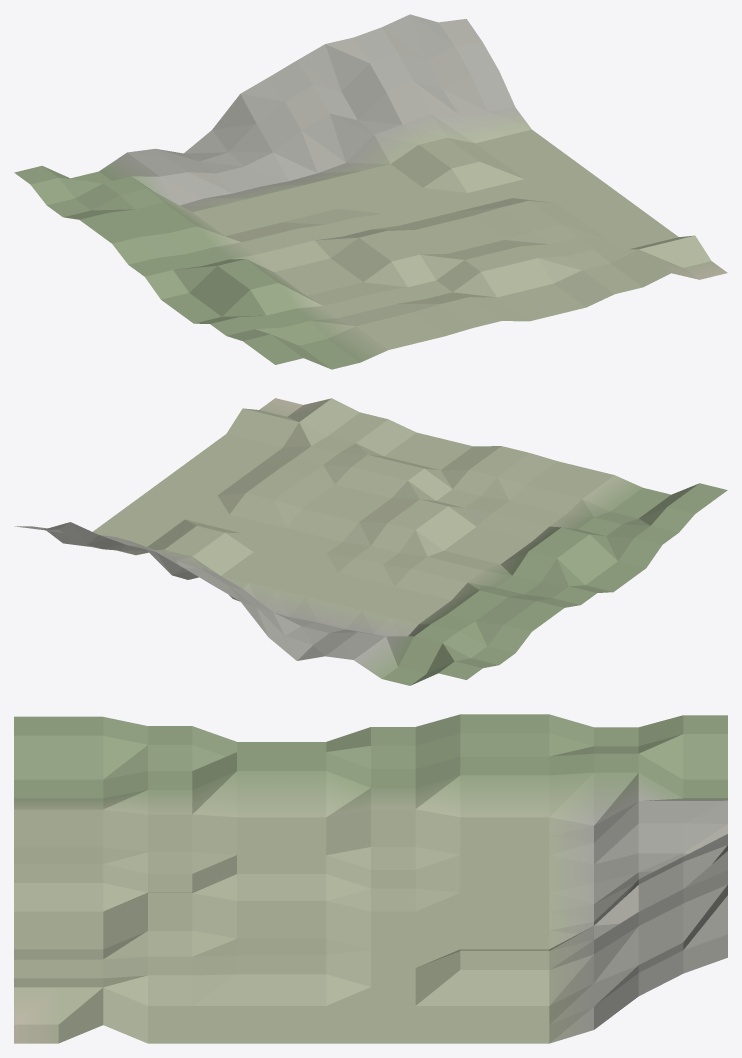
3 renders of one model, top to bottom at view 1: azimuth 30°, elevation 25°; view 2: azimuth 150°, elevation 25°; view 3: azimuth 270°, elevation 25°, orthographic. The views are drawn at different scales.
Size of the model in its own units: 32 by 6.05 by 32.
